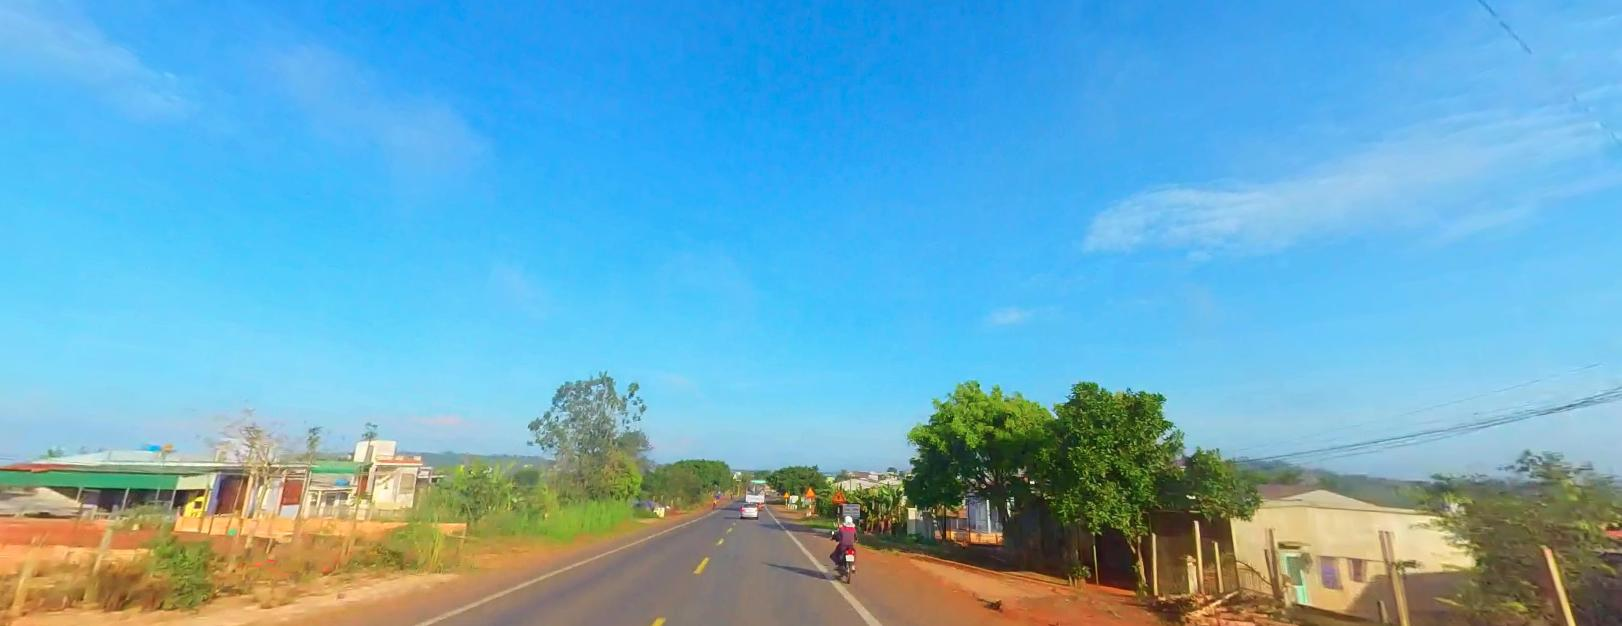Nguy hiem: (832, 489, 845, 501), (805, 486, 815, 495), (783, 490, 789, 496)
